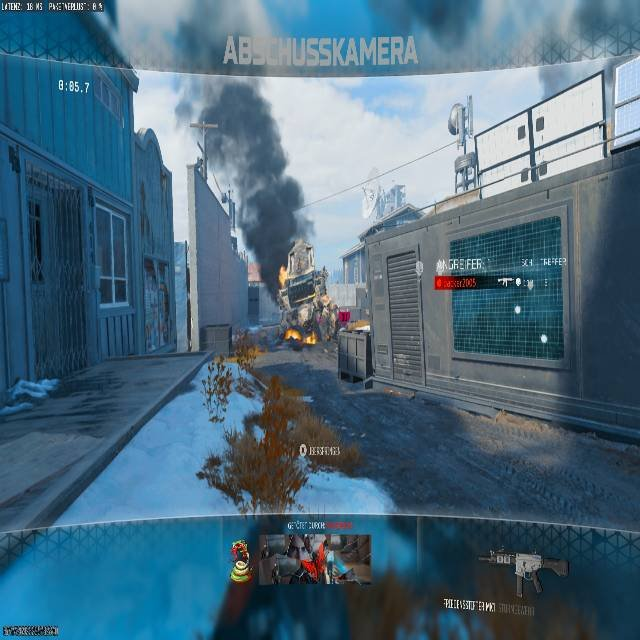player: (317, 288, 339, 347)
